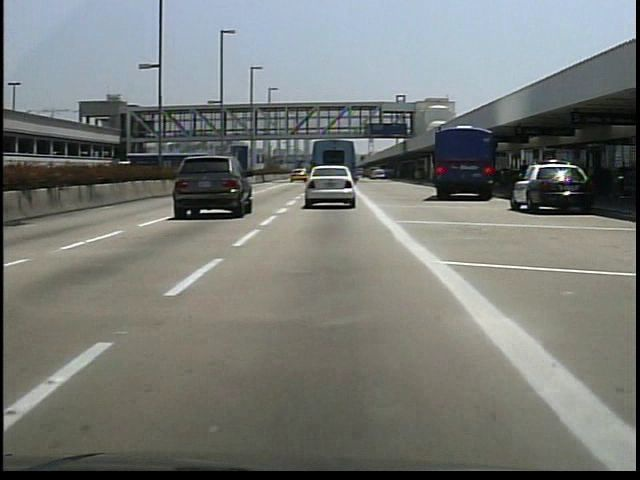person: (515, 154, 535, 199)
